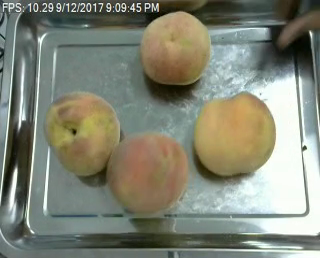Peach: (107, 130, 190, 214), (194, 92, 276, 177), (45, 90, 120, 176), (140, 10, 210, 86)
